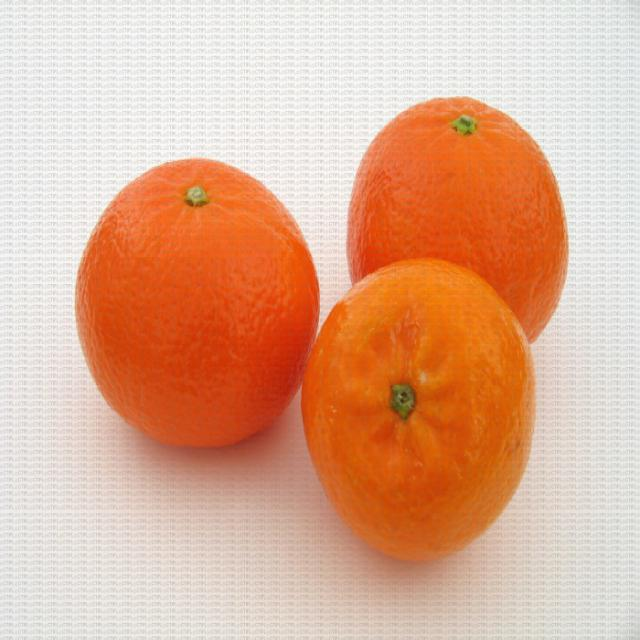Orange: (74, 157, 320, 450), (299, 258, 531, 565), (343, 99, 569, 345)
